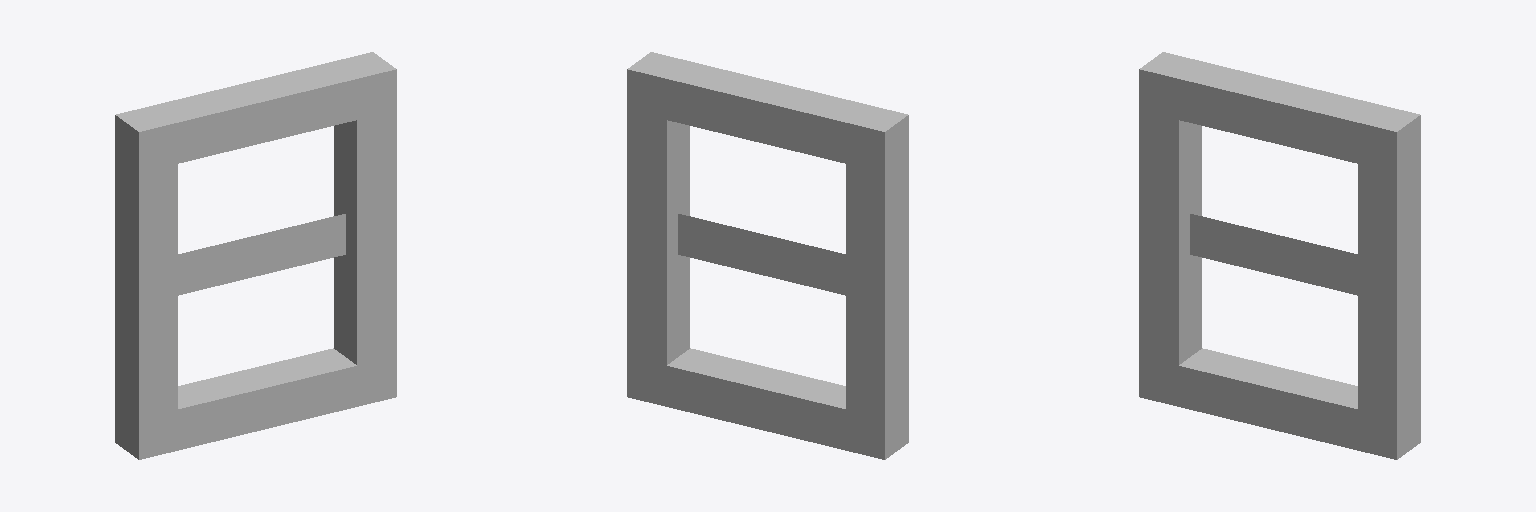
File: window-white-detailed.obj
The picture shows the model from 3 angles: view 1: azimuth 30°, elevation 25°; view 2: azimuth 150°, elevation 25°; view 3: azimuth 330°, elevation 25°; orthographic projection.
Parts seen in each view (by area): view 1: window-white-detailed; view 2: window-white-detailed; view 3: window-white-detailed.
Part boxes in pixels (x1,y1,x2,y2): window-white-detailed: (115, 52, 396, 459); window-white-detailed: (627, 52, 908, 459); window-white-detailed: (1139, 52, 1420, 459).
Size of the model in its own units: 0.3125 by 0.38 by 0.05.